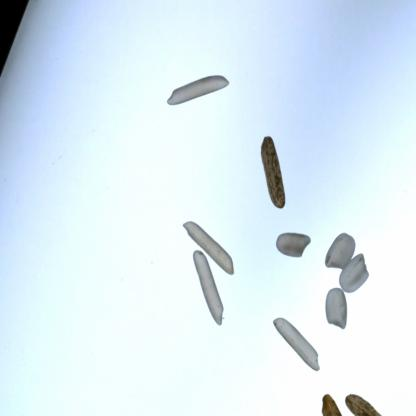Full: (162, 52, 230, 136), (244, 135, 306, 212), (182, 250, 240, 327), (176, 219, 245, 280), (270, 319, 338, 373), (273, 228, 319, 270), (322, 288, 362, 332), (338, 251, 372, 301), (346, 380, 392, 415), (326, 228, 358, 276), (316, 394, 346, 416)
